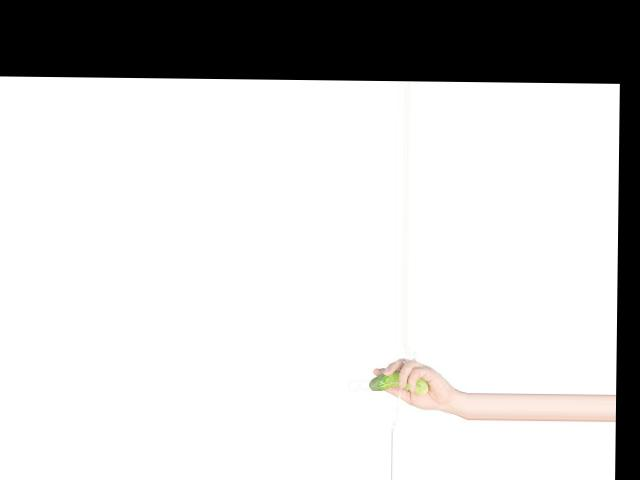cucumber: (369, 371, 428, 393)
